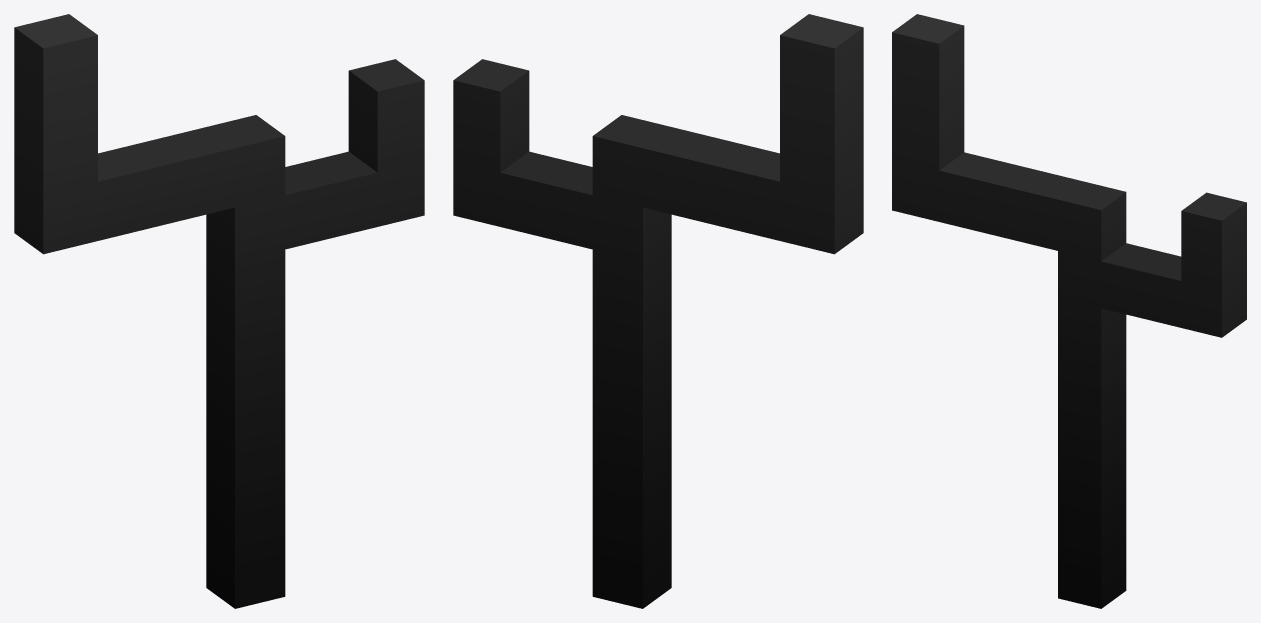
File: Tree_Dead2.fbx
The picture shows the model from 3 angles, left to right: view 1: azimuth 30°, elevation 25°; view 2: azimuth 150°, elevation 25°; view 3: azimuth 330°, elevation 25°; orthographic projection. The views are drawn at different scales.
Visible parts, largest first — view 1: Tree_dead2; view 2: Tree_dead2; view 3: Tree_dead2.
Boxes of the visible parts, x1,y1,x2,y2 form: Tree_dead2: (14, 14, 424, 608); Tree_dead2: (453, 14, 863, 608); Tree_dead2: (892, 14, 1246, 608).
Bounding box in the file's own units: 295 × 449 × 38.76.
